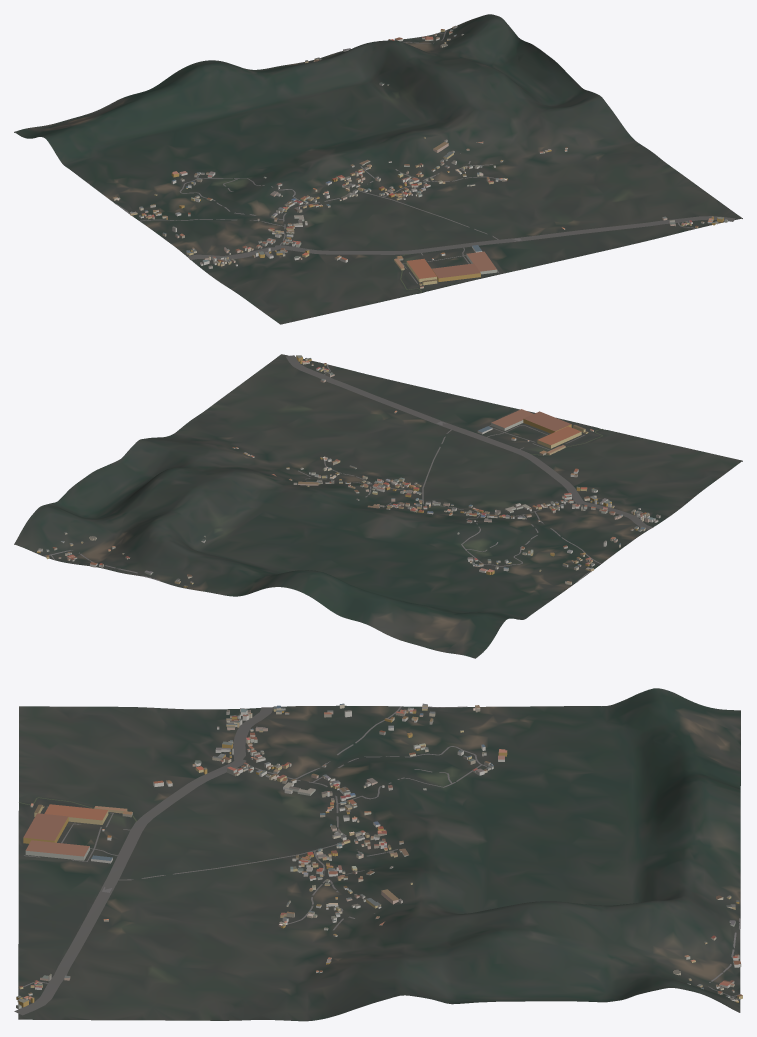
3 views of the same model, one above another, from view 1: azimuth 30°, elevation 25°; view 2: azimuth 150°, elevation 25°; view 3: azimuth 270°, elevation 25° (orthographic). The views are drawn at different scales.
Parts seen in each view (by area): view 1: ground, buildings, roads; view 2: ground, buildings, roads; view 3: ground, buildings, roads.
Part boxes in pixels (x1=…): ground: x1=14, y1=14, x2=742, y2=324; buildings: x1=112, y1=25, x2=727, y2=288; roads: x1=115, y1=30, x2=735, y2=283; ground: x1=14, y1=354, x2=742, y2=658; buildings: x1=37, y1=355, x2=660, y2=587; roads: x1=43, y1=355, x2=653, y2=582; ground: x1=18, y1=688, x2=740, y2=1021; buildings: x1=16, y1=703, x2=742, y2=1008; roads: x1=14, y1=706, x2=740, y2=1015.
Bounding box in the file's own units: 1404 × 111 × 1415.
